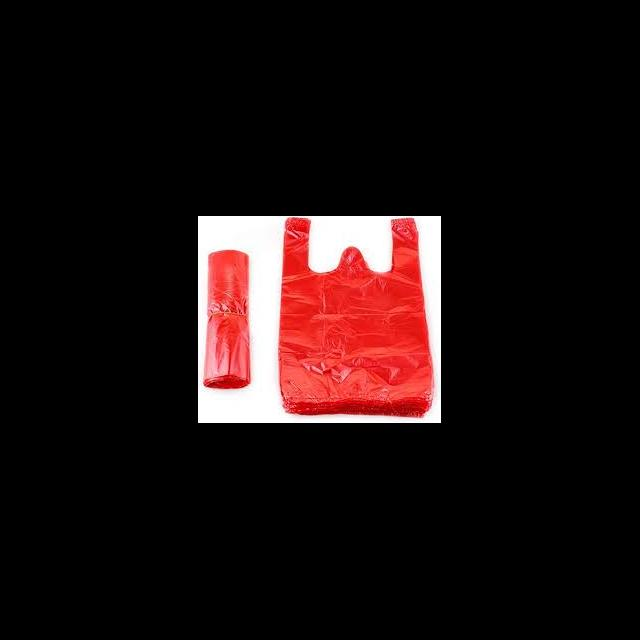plastic: (278, 216, 434, 418), (203, 250, 250, 388)
